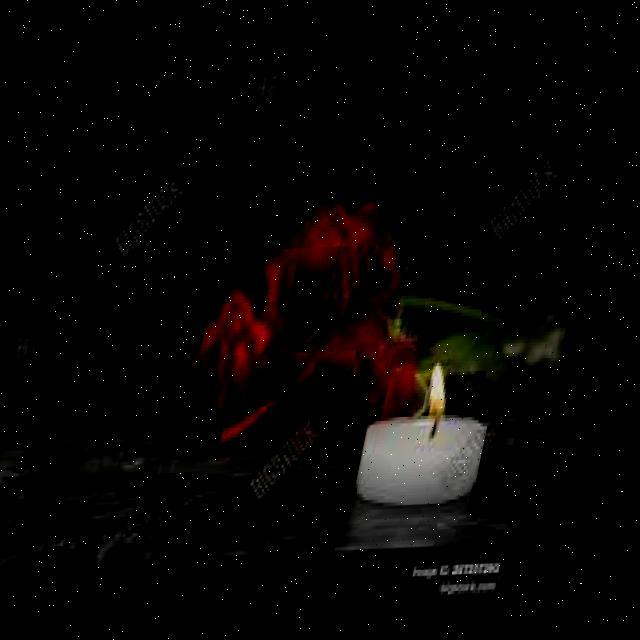Fire: (430, 354, 480, 428)
